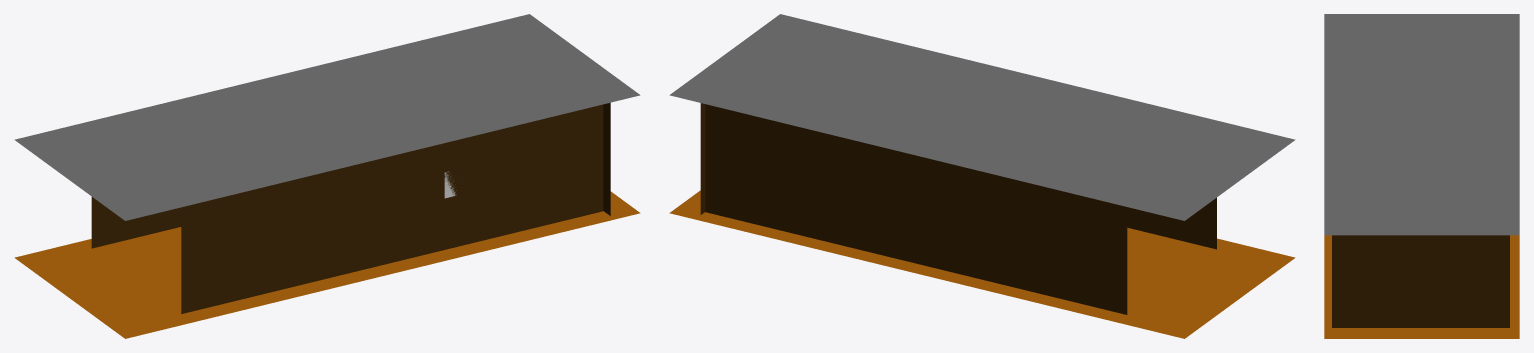
File: локация3 маленькое вместе.fbx
3 renders of one model, left to right at view 1: azimuth 30°, elevation 25°; view 2: azimuth 150°, elevation 25°; view 3: azimuth 270°, elevation 25°, orthographic. The views are drawn at different scales.
Parts seen in each view (by area): view 1: Plane.004, Plane.002, Plane, Plane.001, Plane.003; view 2: Plane.004, Plane.001, Plane, Plane.002, Plane.003; view 3: Plane.004, Plane.003, Plane.
Part boxes in pixels (x1=…): Plane.004: x1=14, y1=14, x2=640, y2=220; Plane.002: x1=181, y1=104, x2=603, y2=313; Plane: x1=14, y1=191, x2=640, y2=338; Plane.001: x1=91, y1=197, x2=181, y2=248; Plane.003: x1=603, y1=102, x2=610, y2=215; Plane.004: x1=669, y1=14, x2=1295, y2=220; Plane.001: x1=705, y1=104, x2=1127, y2=314; Plane: x1=669, y1=190, x2=1295, y2=338; Plane.002: x1=1127, y1=197, x2=1216, y2=249; Plane.003: x1=700, y1=103, x2=705, y2=214; Plane.004: x1=1324, y1=14, x2=1519, y2=235; Plane.003: x1=1332, y1=235, x2=1509, y2=327; Plane: x1=1324, y1=235, x2=1519, y2=338.
Size of the model in its own units: 2329 by 523 by 869.
